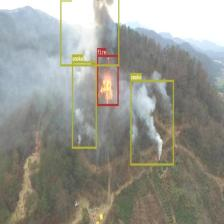fire: (97, 55, 118, 106)
smoke: (60, 0, 119, 65), (130, 79, 174, 164), (72, 61, 96, 148)
